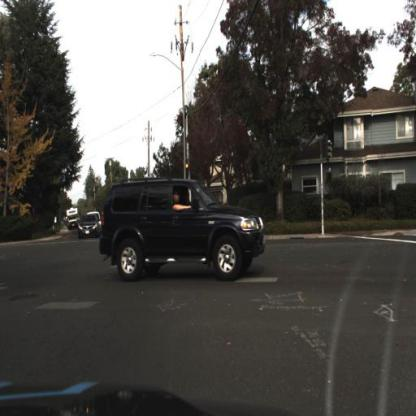car: (100, 176, 268, 283), (74, 210, 101, 243)
trafficLight-Red: (181, 160, 193, 191), (185, 157, 191, 184)
truck: (64, 205, 79, 231)
